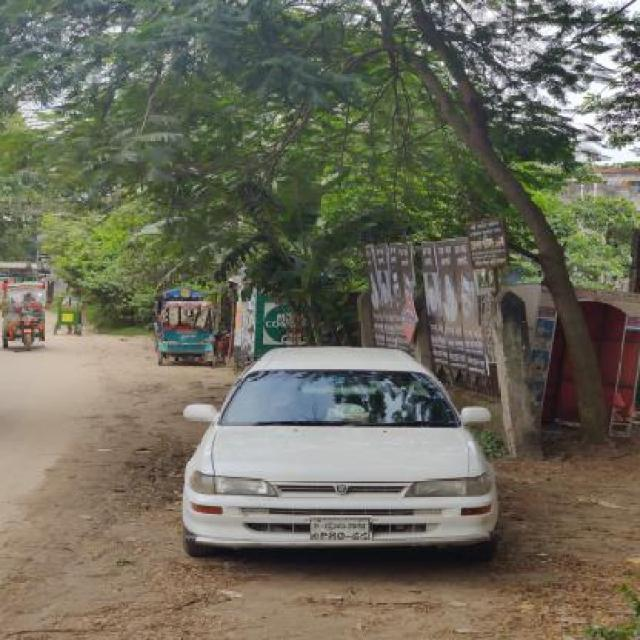Rickshaw: (0, 277, 45, 351)
numberplate: (310, 516, 372, 542)
